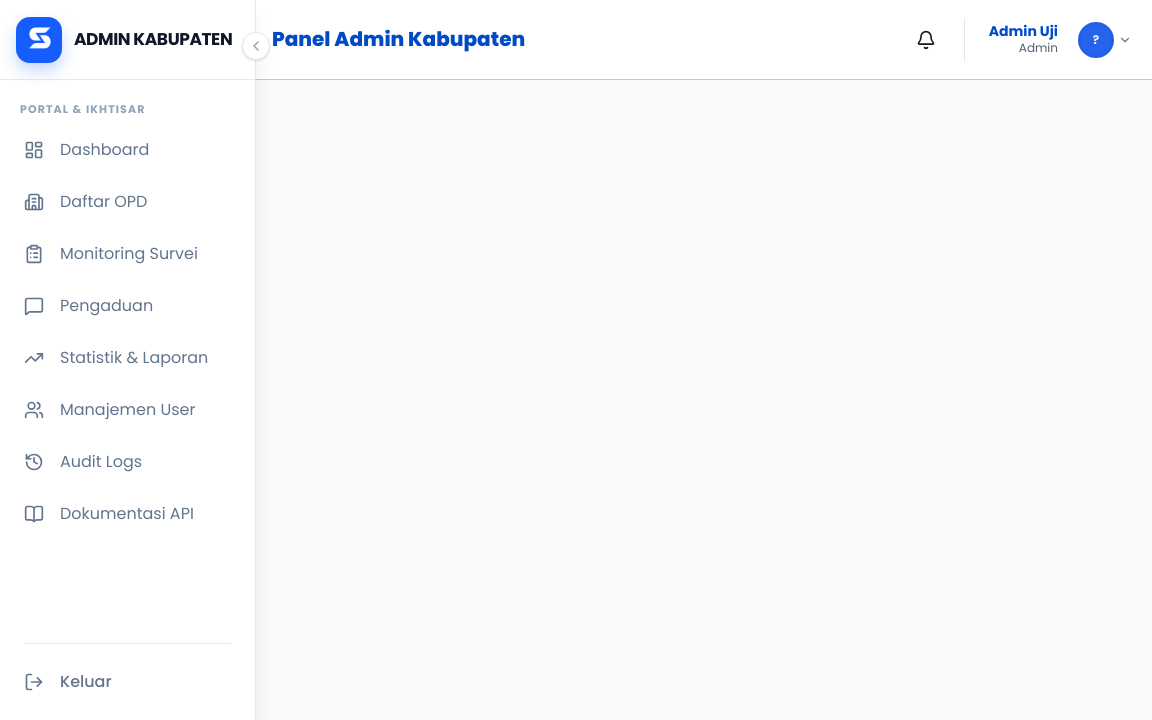
Test: Admin Kabupaten — tombol sidebar › tombol ciut desktop: nama tetap, aria-expanded berbalik
The image size is (1152, 720).
Click the button named "Sidebar lebar": click(256, 46) [242,32,270,60]
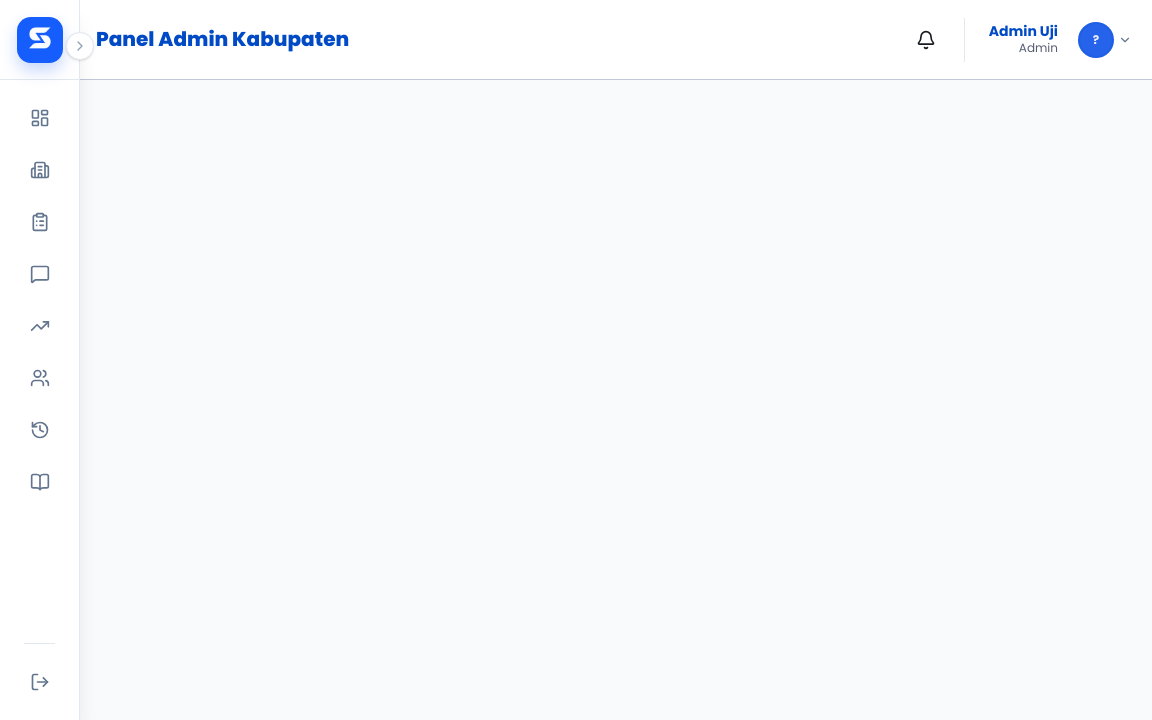
Expected: the button named "Sidebar lebar" is collapsed
Click the button named "Sidebar lebar": click(80, 46) [66,32,94,60]
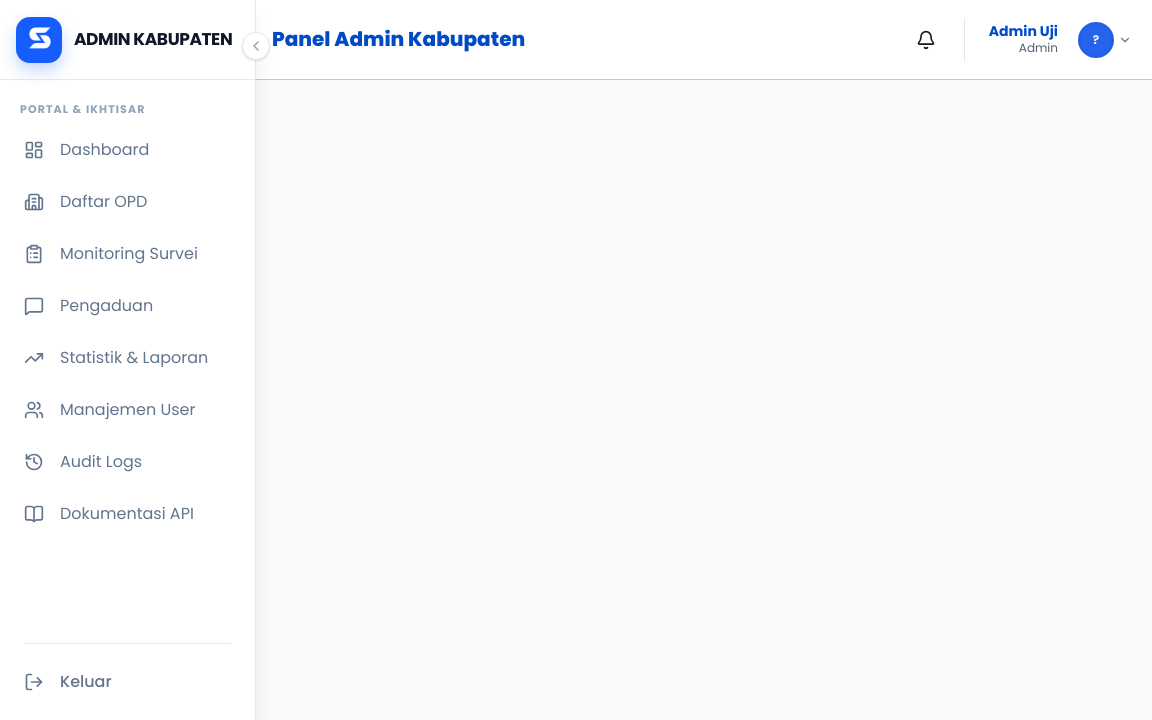
Expected: the button named "Sidebar lebar" is expanded, [242,32,270,60]
